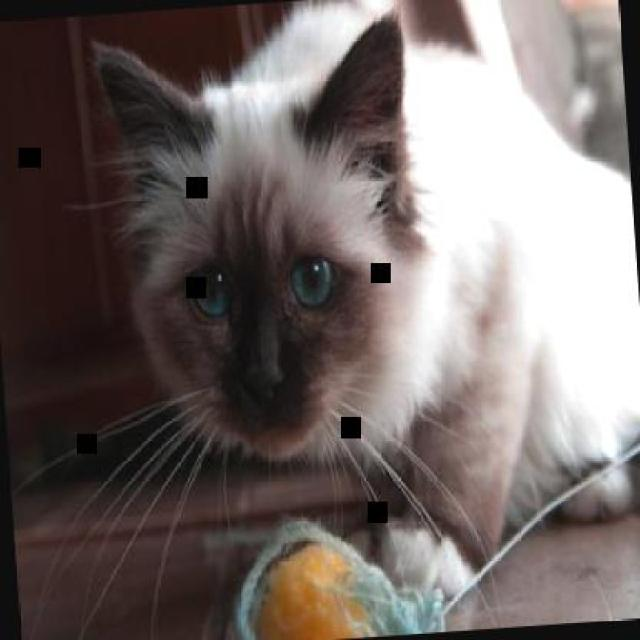cat: (90, 0, 638, 623)
